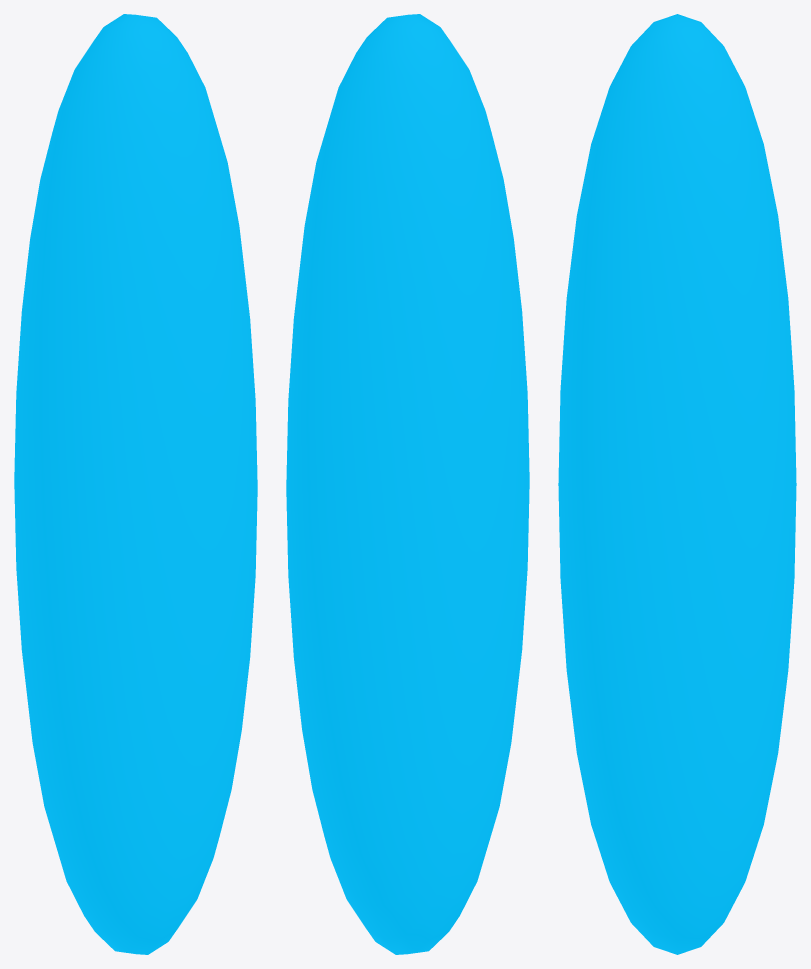
Rendered from teleport.glb.
3 views of the same model, side by side, from view 1: azimuth 30°, elevation 25°; view 2: azimuth 150°, elevation 25°; view 3: azimuth 270°, elevation 25° (orthographic).
Parts seen in each view (by area): view 1: Teleport; view 2: Teleport; view 3: Teleport.
Part boxes in pixels (left/top/right/bottom): Teleport: left=14, top=14, right=257, bottom=954; Teleport: left=286, top=14, right=529, bottom=954; Teleport: left=558, top=14, right=796, bottom=954.
Size of the model in its own units: 0.85 by 3.69 by 0.85.
